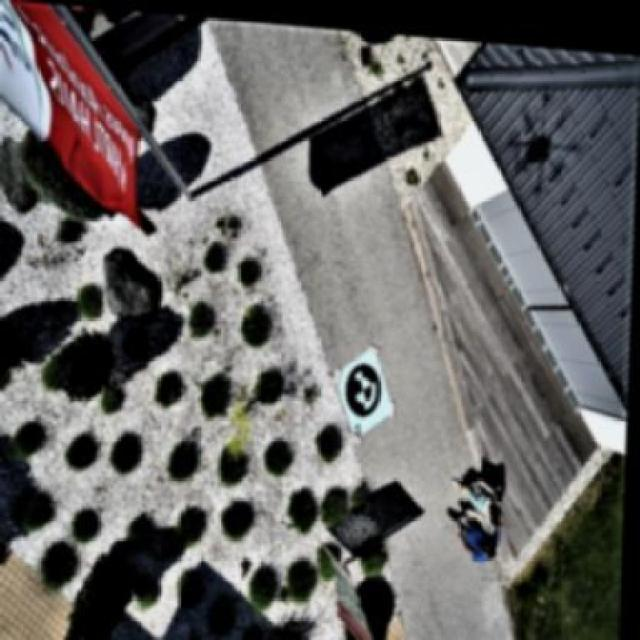Person: (444, 460, 527, 517), (442, 510, 512, 558)
